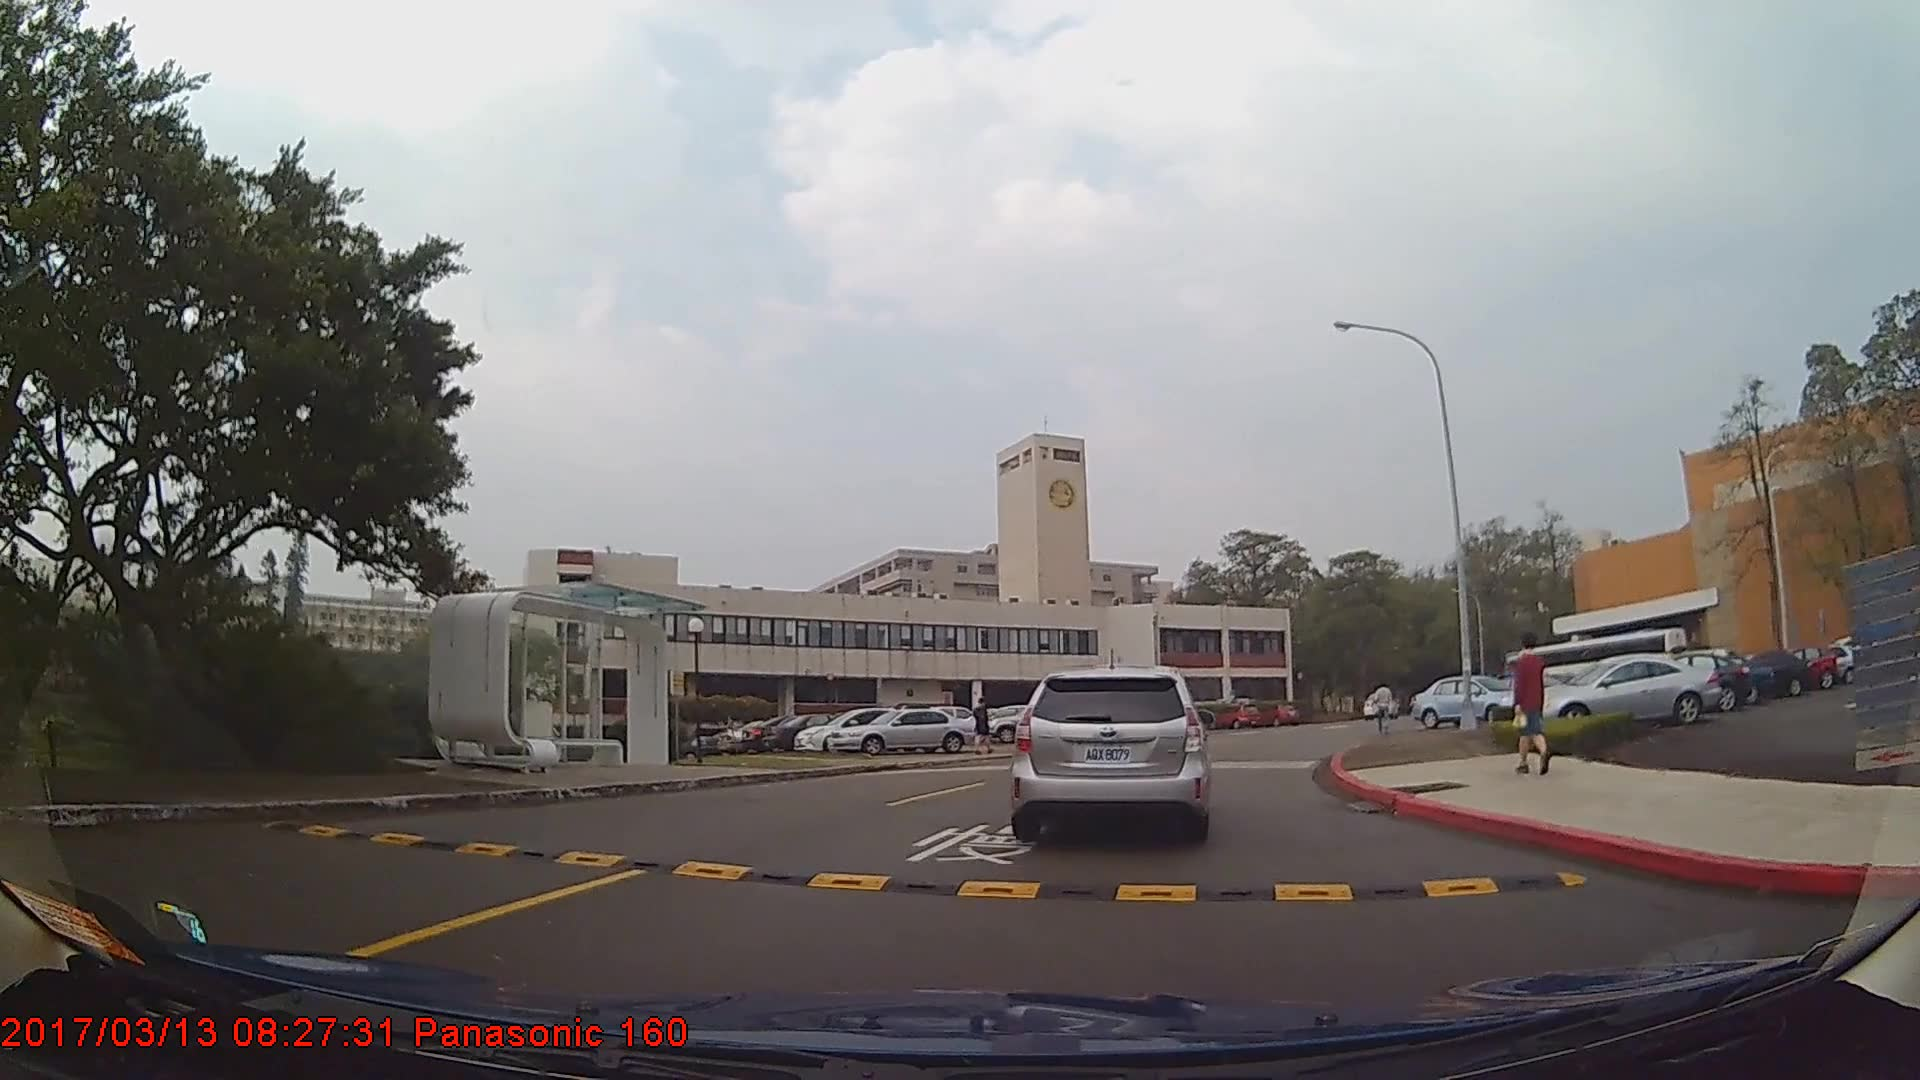pedestrian: (1507, 627, 1552, 771), (1369, 677, 1397, 736), (974, 698, 994, 755)
vehicle: (1016, 665, 1208, 838), (1536, 652, 1719, 726), (826, 706, 978, 755), (788, 703, 926, 749), (1407, 675, 1522, 726), (1666, 649, 1774, 701), (1710, 645, 1812, 696), (762, 711, 861, 750)
